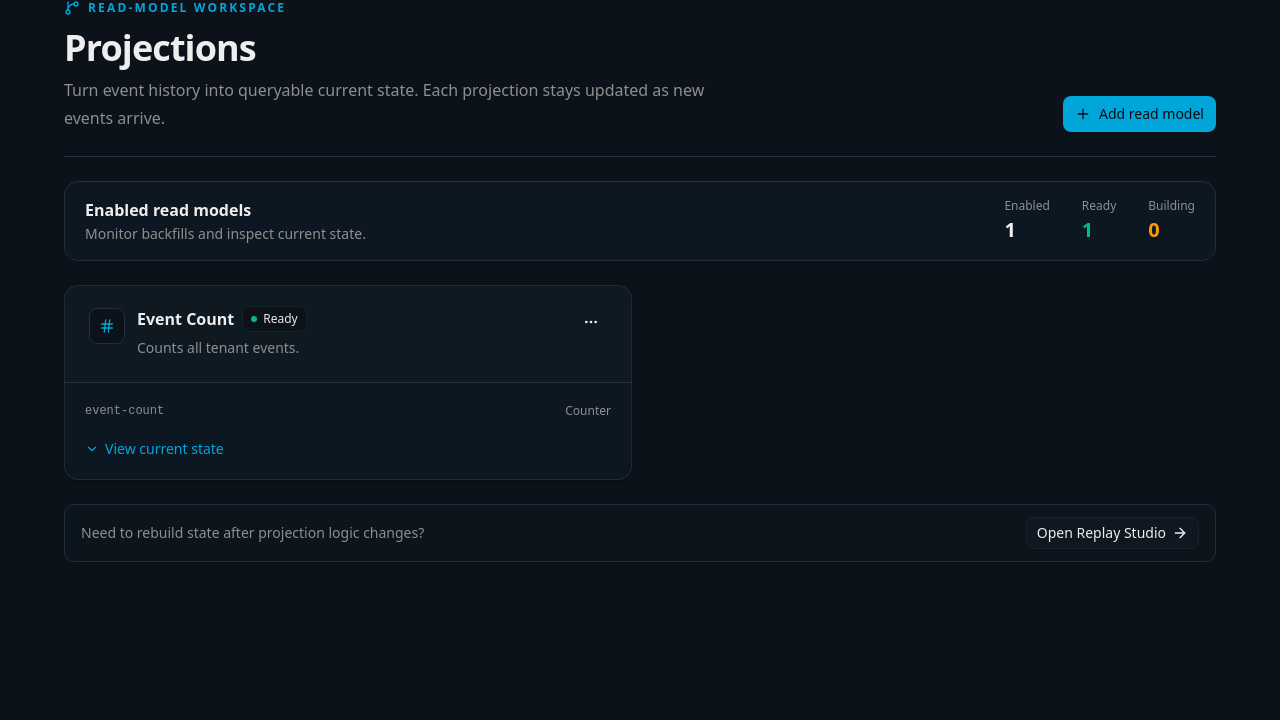
Scenario: Projections page › shows compact status and only remaining templates for active tenants
expect the text "Enabled" is shown: met, box [1004,198,1050,214]
expect the text "Ready" is shown: met, box [1082,198,1116,214]
Click the button "Add read model": (1140, 114) [1063,96,1216,132]
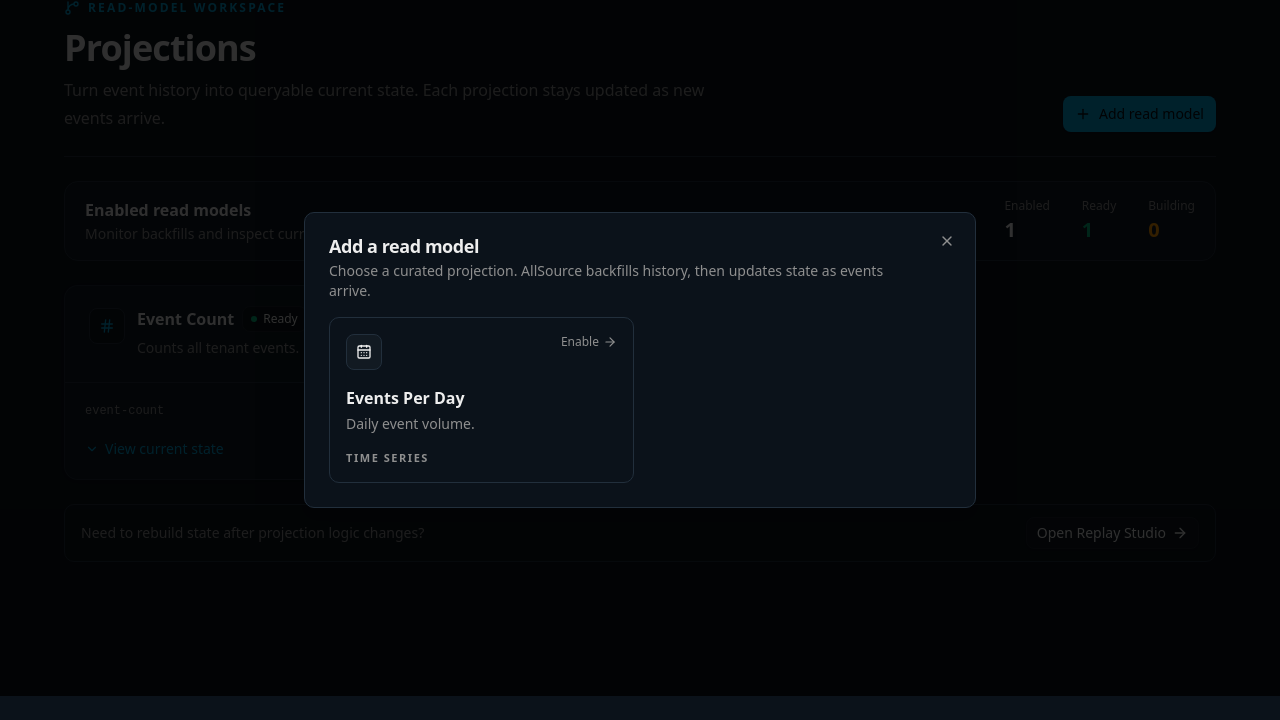
expect the button with aria-label "Enable Events Per Day projection" is shown: met, box [329,317,634,483]
